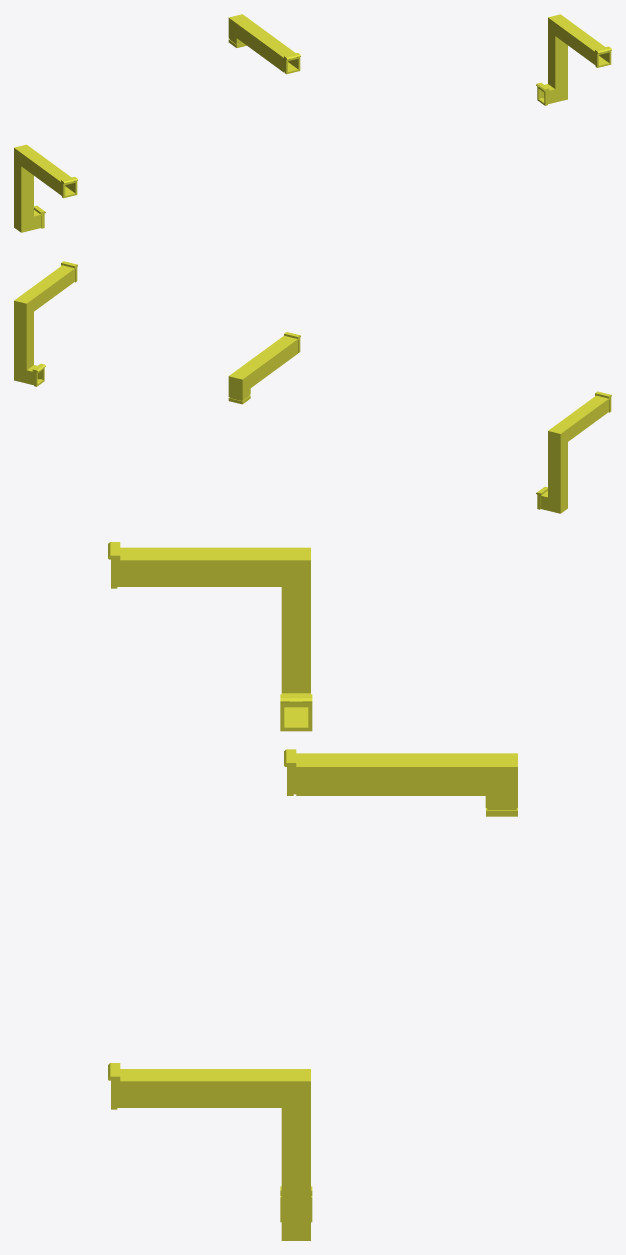
The model's file is Encounter_003_Vents.fbx.
The picture shows the model from 3 angles, top to bottom: view 1: azimuth 30°, elevation 25°; view 2: azimuth 150°, elevation 25°; view 3: azimuth 270°, elevation 25°; orthographic projection. The views are drawn at different scales.
Visible parts, largest first — view 1: Encounter_003_Vents; view 2: Encounter_003_Vents; view 3: Encounter_003_Vents.
Boxes of the visible parts, x1,y1,x2,y2 form: Encounter_003_Vents: (14, 14, 611, 232); Encounter_003_Vents: (14, 261, 611, 513); Encounter_003_Vents: (108, 542, 517, 1240).
Size of the model in its own units: 4309 by 824 by 1397.
